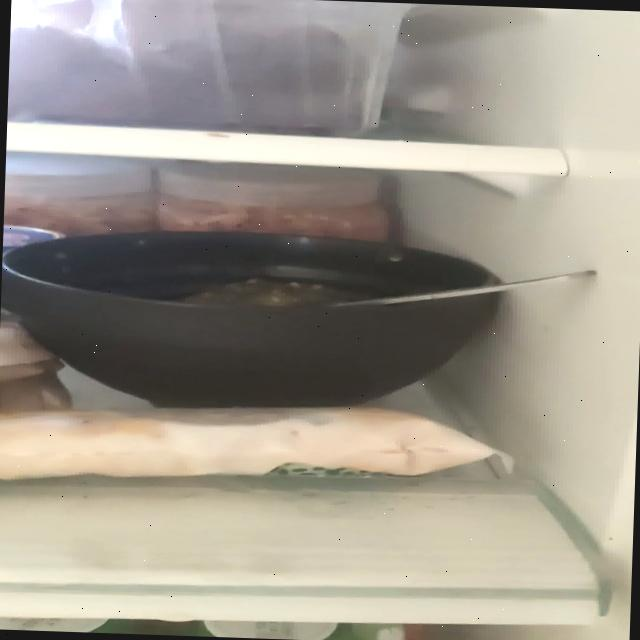tempeh: (0, 392, 503, 497)
